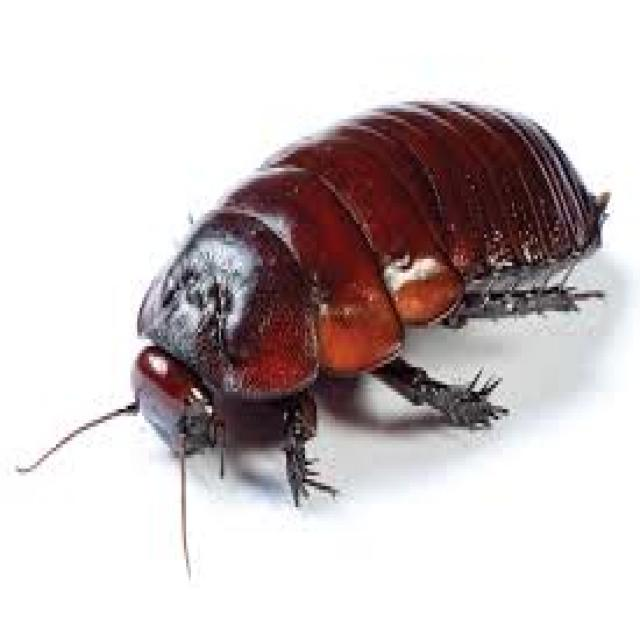Cockroach: (11, 89, 616, 577)
